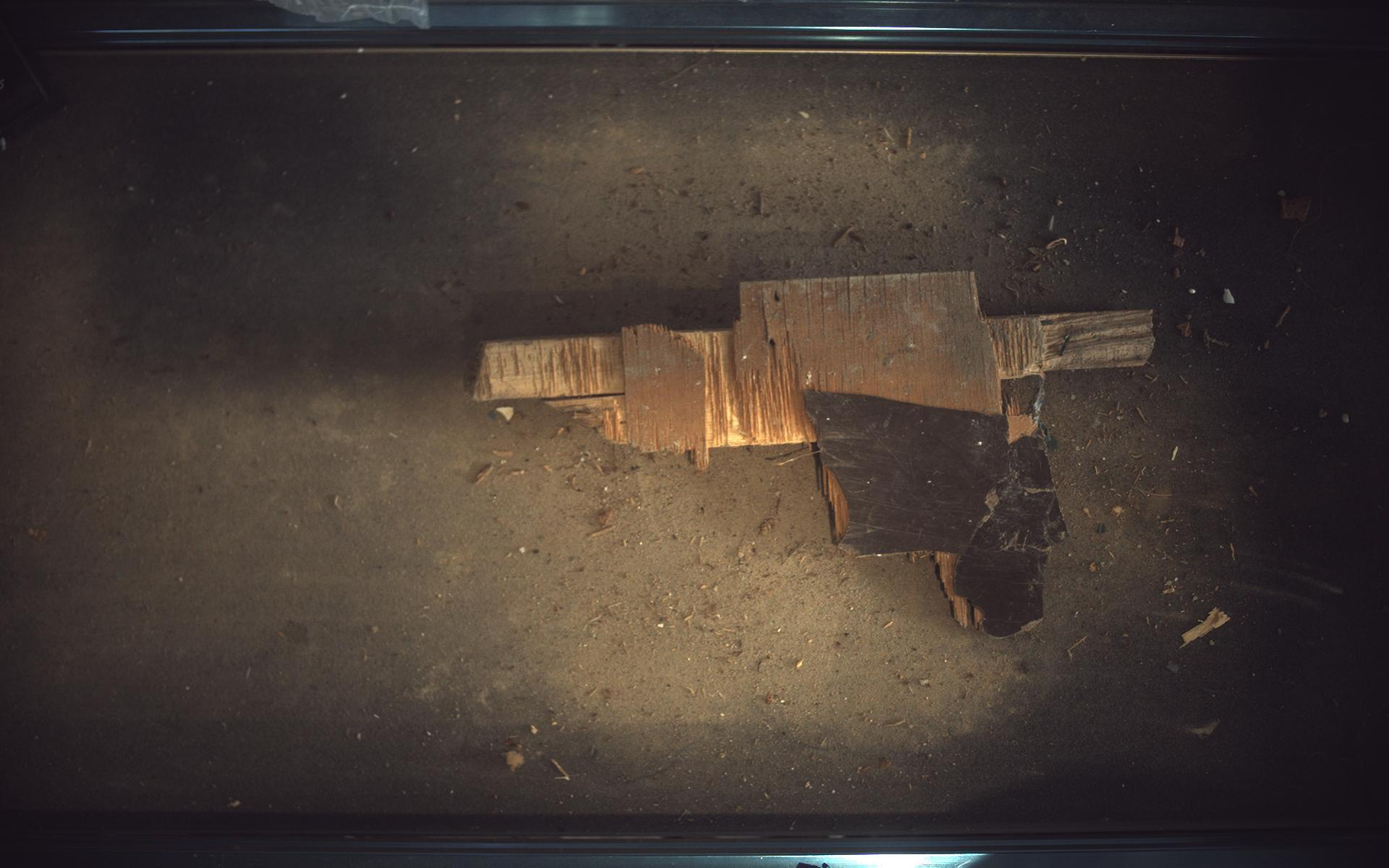wood: (474, 271, 1158, 637)
